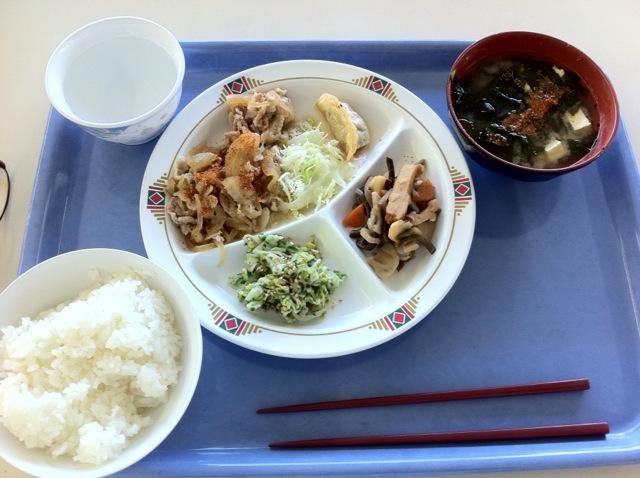plate: (0, 249, 201, 477)
rice: (0, 274, 182, 464)
